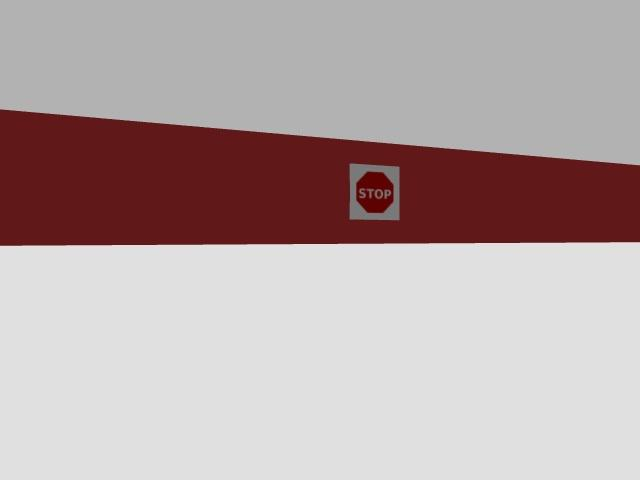stop: (350, 164, 399, 220)
